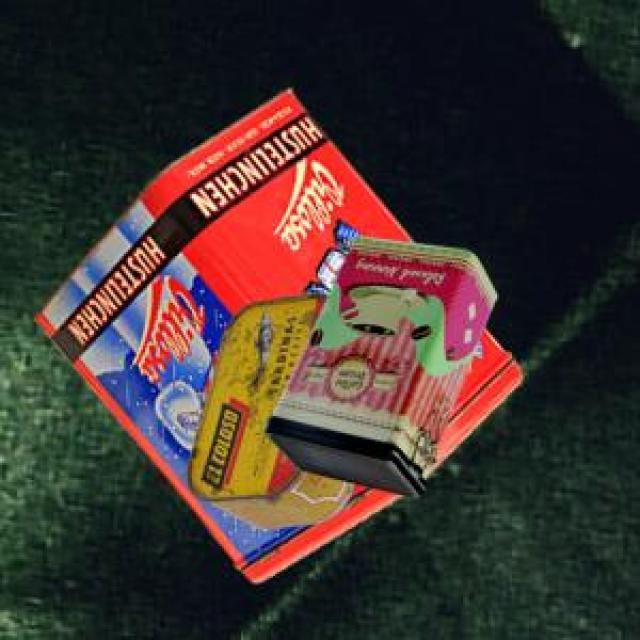Can: (31, 86, 519, 579), (261, 234, 494, 494), (185, 289, 351, 526)
